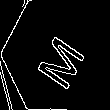M_NW: (25, 22, 85, 88)
